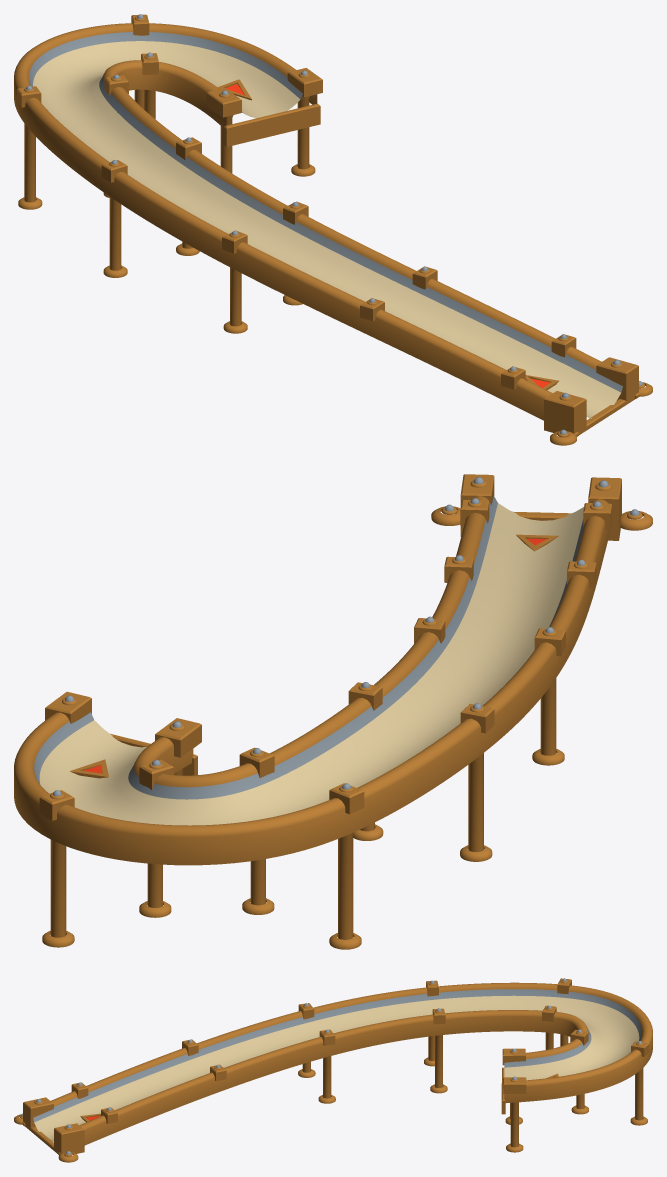
Rendered from aurora-rampL.dae.
3 views of the same model, one above another, from view 1: azimuth 30°, elevation 25°; view 2: azimuth 150°, elevation 25°; view 3: azimuth 270°, elevation 25° (orthographic). The views are drawn at different scales.
Visible parts, largest first — view 1: accent, ramp_floor, metal; view 2: accent, ramp_floor, metal; view 3: accent, ramp_floor, metal.
Boxes of the visible parts, <box> form: accent: <box>14,14,652,445</box>; ramp_floor: <box>33,41,620,418</box>; metal: <box>26,14,642,434</box>; accent: <box>14,474,652,949</box>; ramp_floor: <box>39,503,583,825</box>; metal: <box>34,477,639,799</box>; accent: <box>14,978,652,1162</box>; ramp_floor: <box>34,995,639,1141</box>; metal: <box>21,978,642,1154</box>.
Bounding box in the file's own units: 0.339 × 0.1328 × 0.8831.
